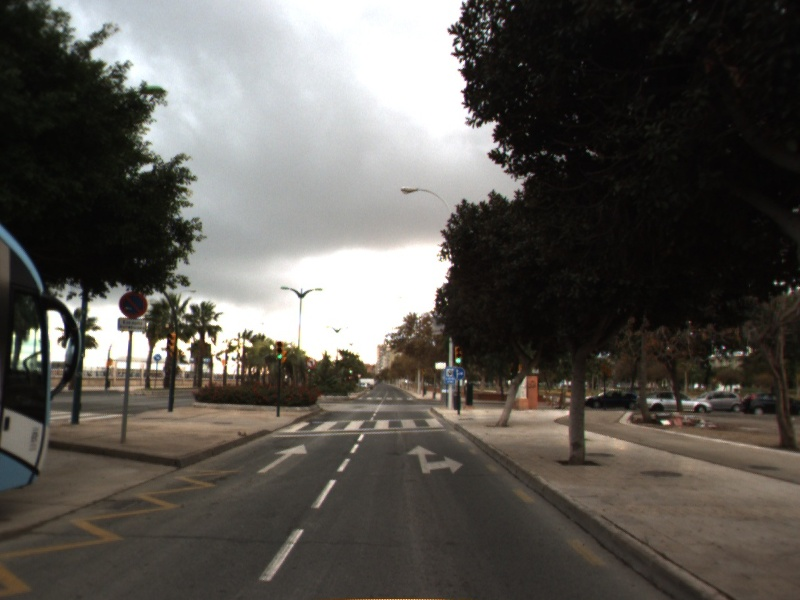STRAIGHT: (254, 442, 309, 475)
STRAIGHT_RIGHT: (405, 443, 464, 475)
